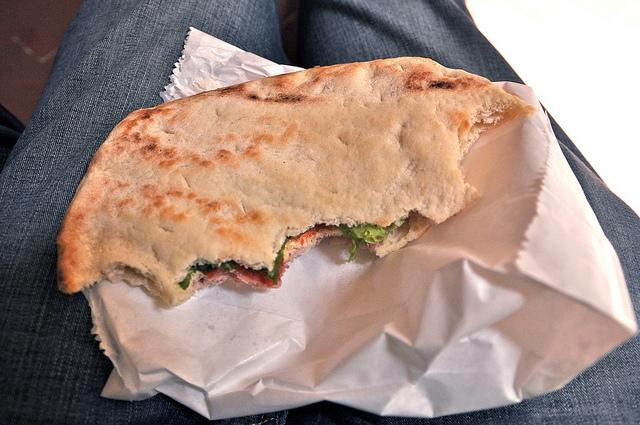lettuce: (339, 224, 388, 264), (266, 236, 292, 284), (191, 263, 217, 275), (222, 260, 238, 272)
